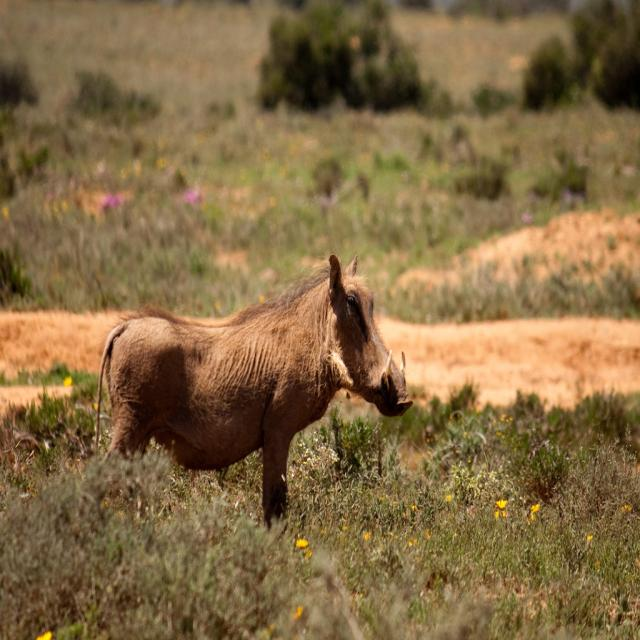Pig: (94, 248, 413, 534)
